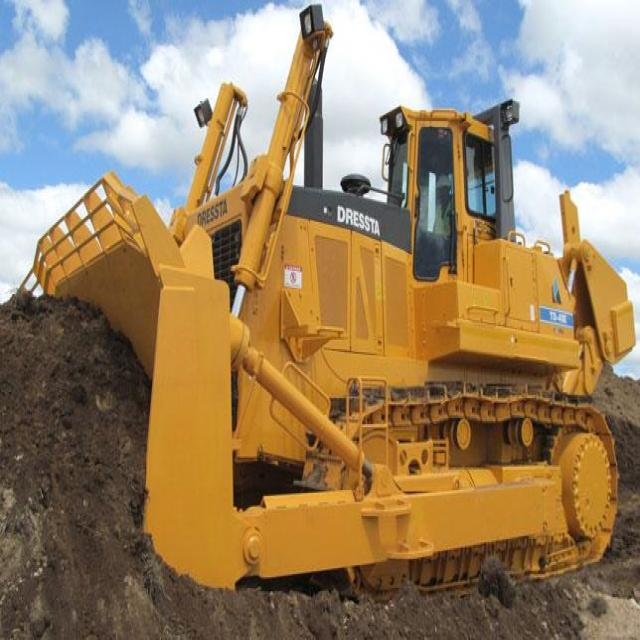Bulldozer: (18, 15, 623, 594)
